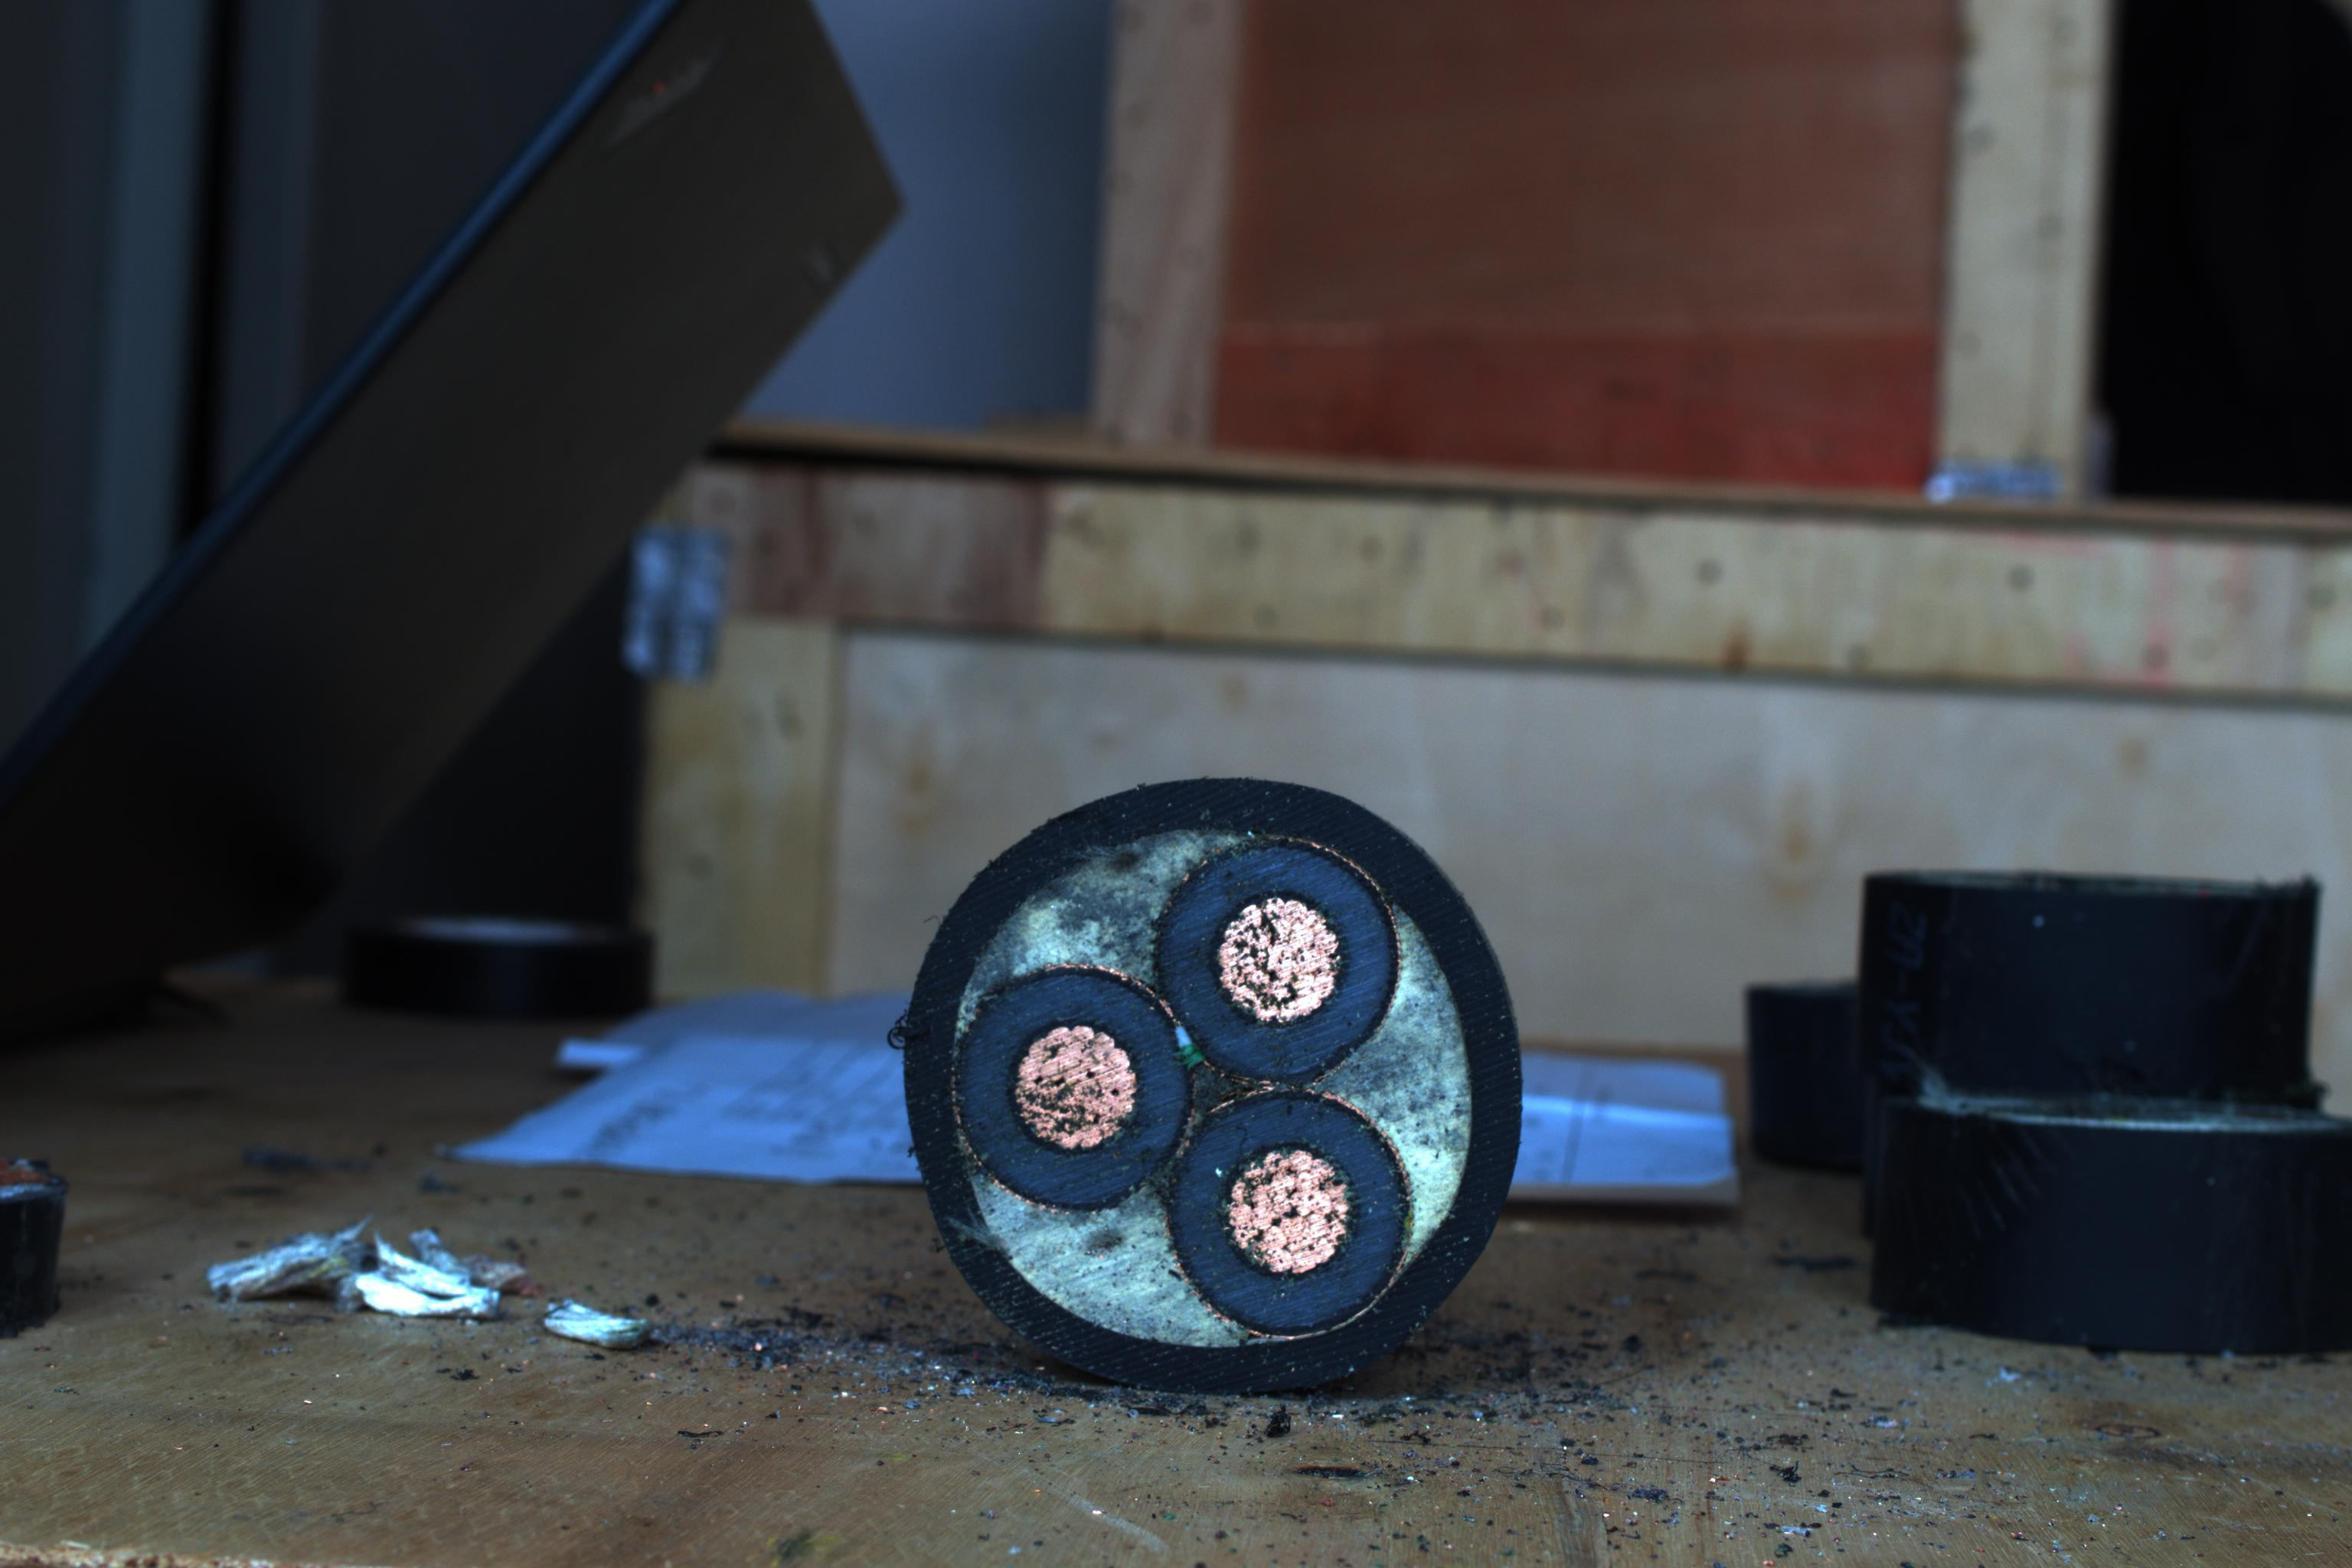ZA_YJV_8.7_10kV_3x120: (917, 791, 1536, 1403)
